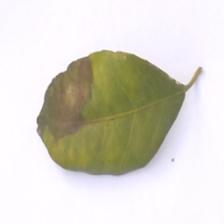black spot: (25, 36, 101, 138)
